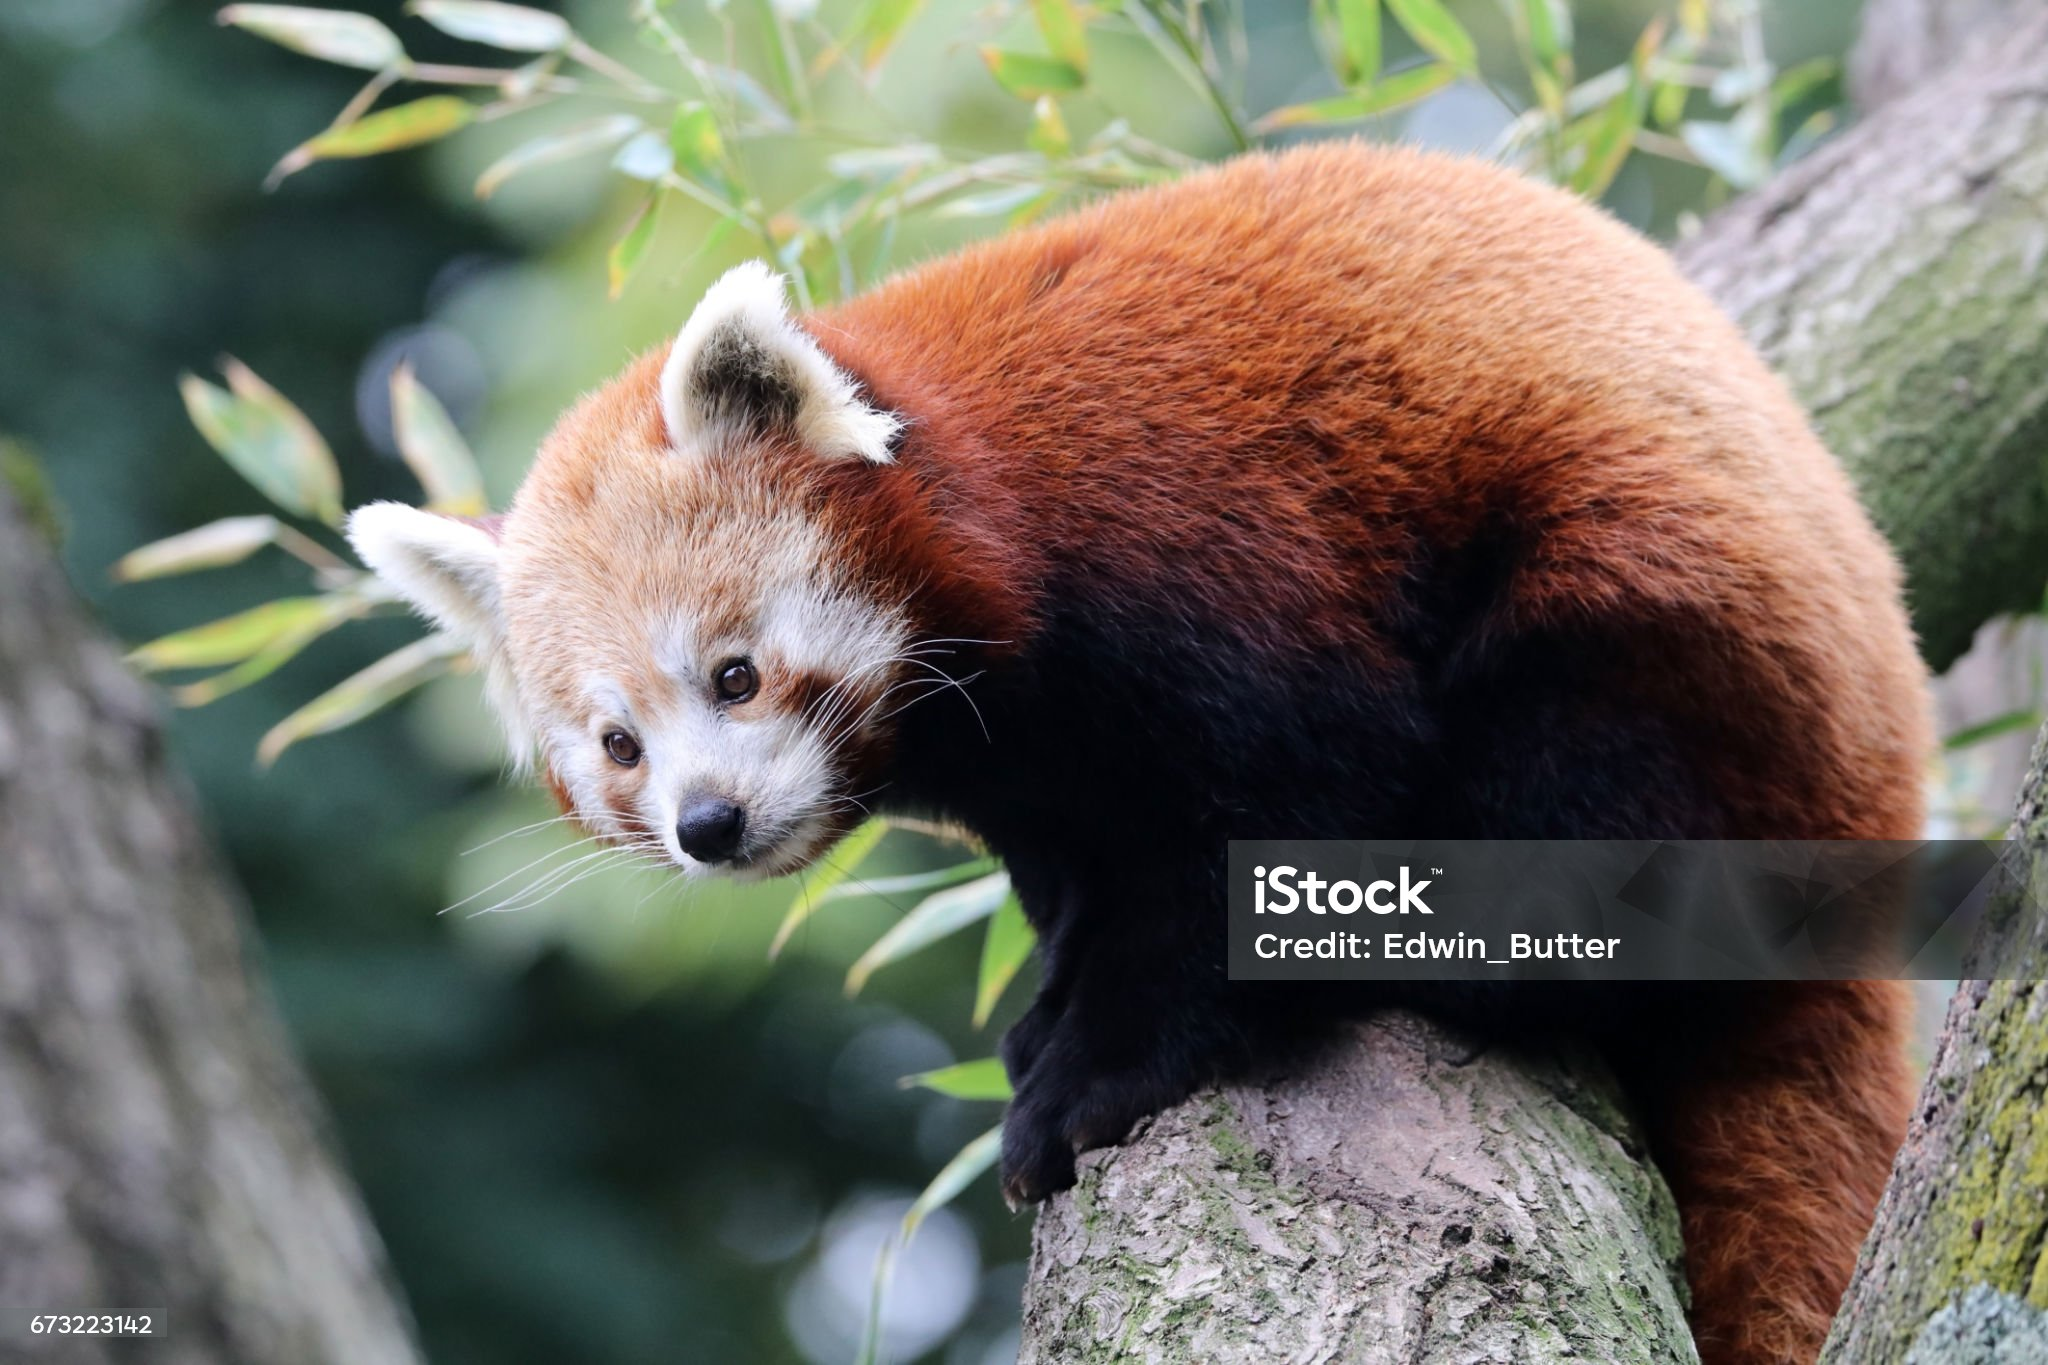Red panda: (346, 261, 924, 897)
